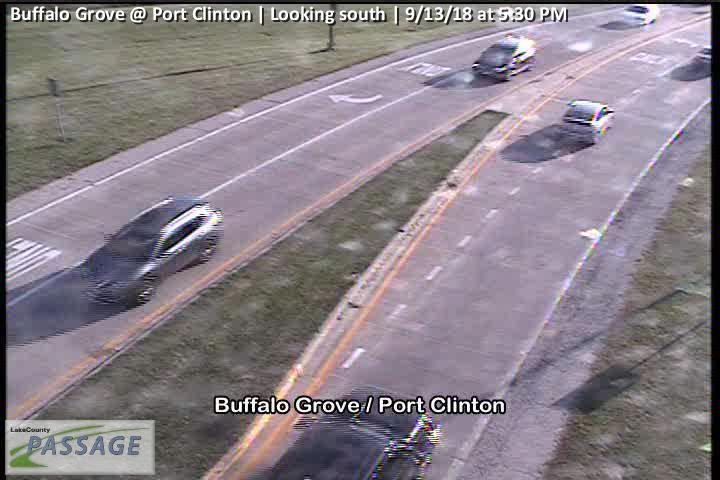SUV: (77, 194, 223, 306)
Sedan: (246, 382, 443, 480), (471, 34, 539, 79), (558, 100, 617, 144), (624, 2, 660, 29), (691, 43, 713, 69)
